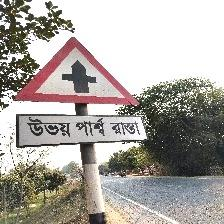Crossroad: (5, 27, 156, 154)
